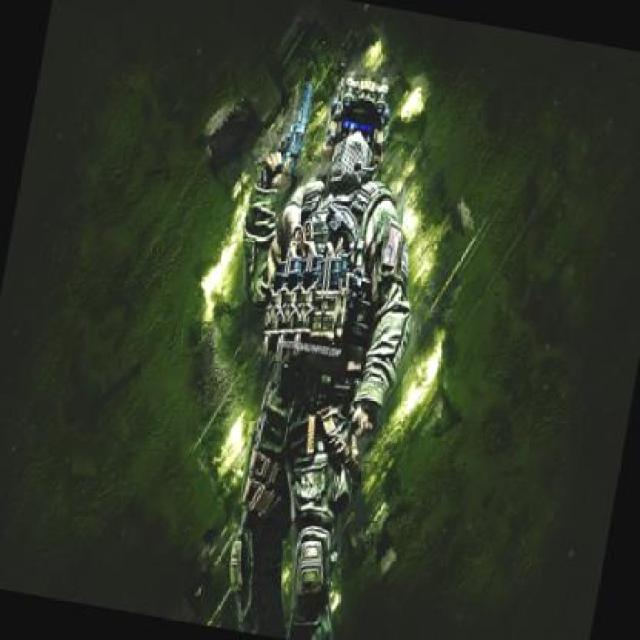MIL_Pax: (170, 54, 458, 638)
